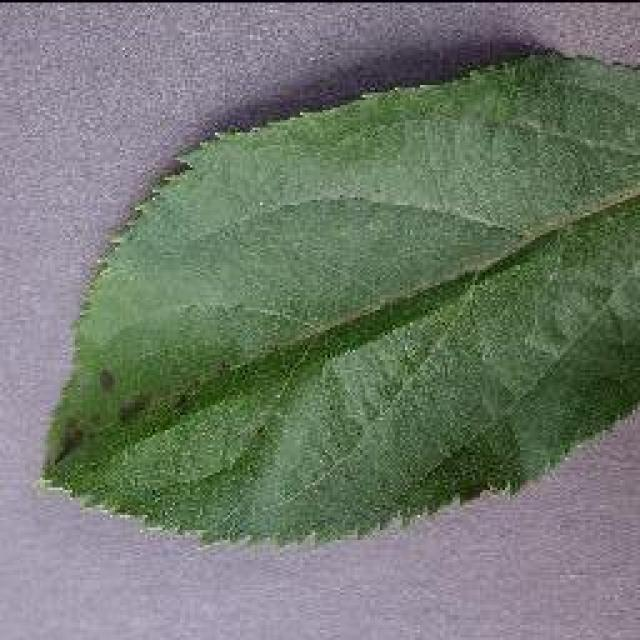apple scab disease: (35, 42, 637, 552)
